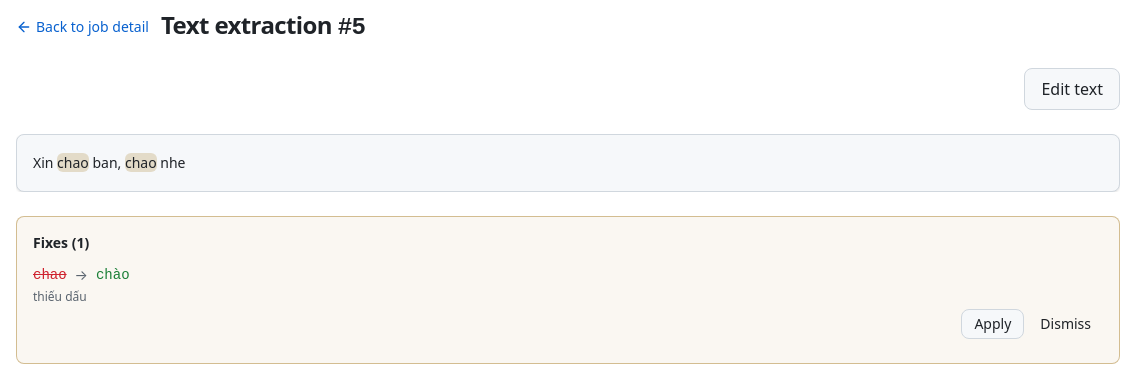
Test: clicking repeat occurrence mark opens the same popover (P1 dead click)
Step 1. Click the 2nd button "chao" → (141, 163), box [125,151,157,175]
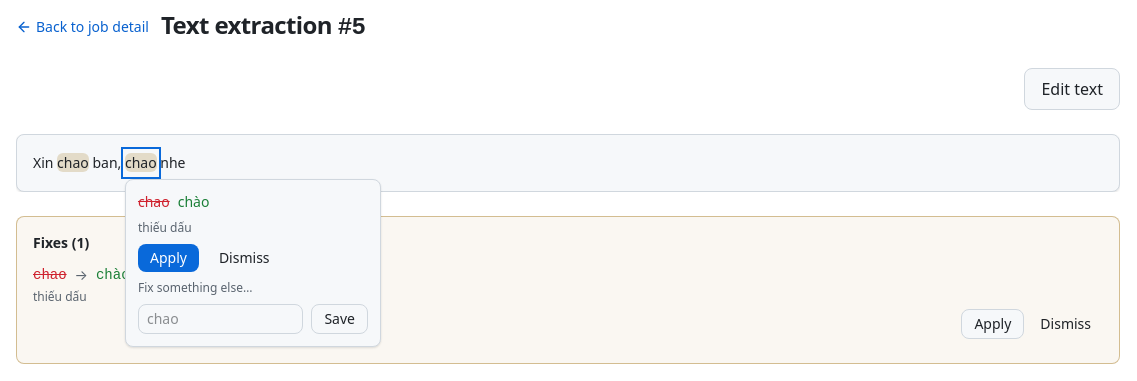
Now the element with test id "suggestion-popover-11" is shown, box [125,179,381,347]
